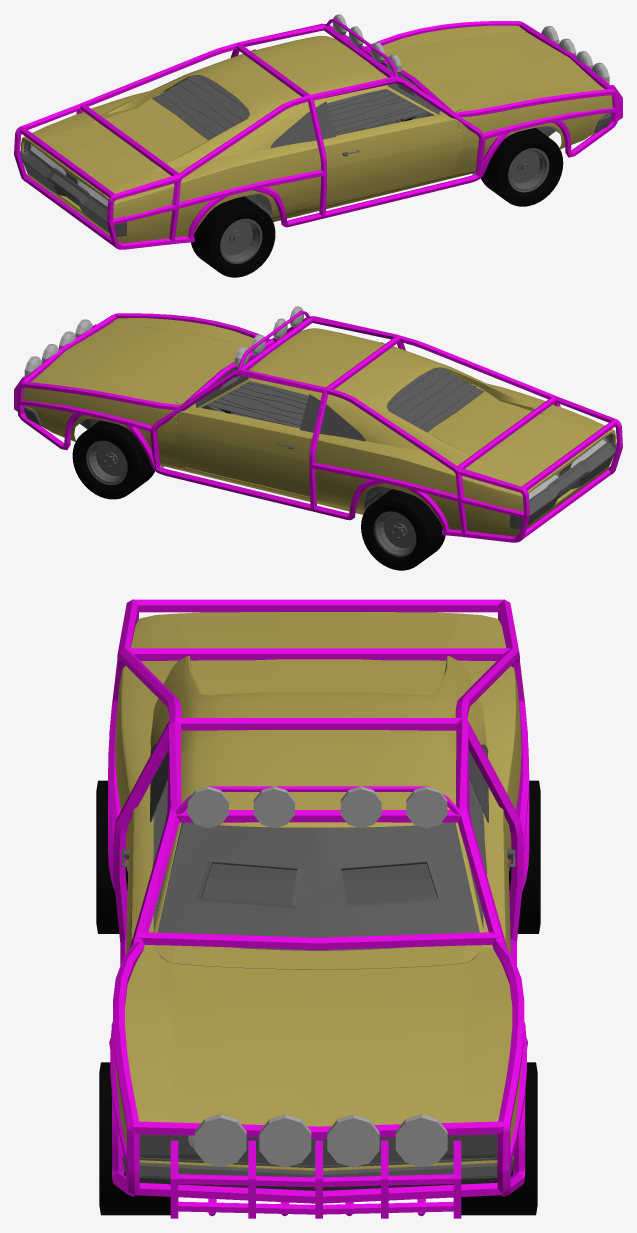
Rendered from Dodge Charger.fbx.
3 views of the same model, one above another, from view 1: azimuth 30°, elevation 25°; view 2: azimuth 150°, elevation 25°; view 3: azimuth 270°, elevation 25° (orthographic). The views are drawn at different scales.
Parts seen in each view (by area): view 1: polySurface131, polySurface72, polySurface106, polySurface75, polySurface68, polySurface70, BackPassengerWheel, FrontPassengerWheel, polySurface113, polySurface74, polySurface88, polySurface77 (+22 smaller); view 2: polySurface131, polySurface72, polySurface113, polySurface75, polySurface31, polySurface70, BackDriverWheel, FrontDriverWheel, polySurface106, polySurface74, polySurface89, polySurface77 (+22 smaller); view 3: polySurface75, polySurface72, polySurface131, polySurface104, polySurface70, polySurface113, polySurface106, polySurface67, polySurface73, polySurface118, polySurface112, polySurface119 (+25 smaller).
Part boxes in pixels (bbox=[...]): polySurface131: bbox=[21, 25, 612, 243]; polySurface72: bbox=[89, 36, 438, 171]; polySurface106: bbox=[106, 76, 617, 249]; polySurface75: bbox=[390, 32, 599, 106]; polySurface68: bbox=[323, 114, 460, 204]; polySurface70: bbox=[31, 94, 208, 195]; BackPassengerWheel: bbox=[191, 196, 275, 277]; FrontPassengerWheel: bbox=[481, 128, 563, 206]; polySurface113: bbox=[14, 21, 524, 181]; polySurface74: bbox=[20, 151, 126, 236]; polySurface88: bbox=[271, 101, 335, 148]; polySurface77: bbox=[24, 141, 107, 212]; polySurface131: bbox=[23, 318, 616, 536]; polySurface72: bbox=[198, 328, 547, 463]; polySurface113: bbox=[17, 369, 529, 542]; polySurface75: bbox=[36, 325, 245, 398]; polySurface31: bbox=[175, 407, 313, 497]; polySurface70: bbox=[427, 386, 605, 488]; BackDriverWheel: bbox=[361, 489, 445, 570]; FrontDriverWheel: bbox=[72, 420, 154, 499]; polySurface106: bbox=[115, 313, 622, 473]; polySurface74: bbox=[509, 444, 616, 529]; polySurface89: bbox=[299, 394, 365, 441]; polySurface77: bbox=[528, 433, 612, 505]; polySurface75: bbox=[173, 963, 463, 1126]; polySurface72: bbox=[150, 656, 486, 932]; polySurface131: bbox=[115, 613, 521, 1170]; polySurface104: bbox=[157, 822, 479, 950]; polySurface70: bbox=[176, 612, 460, 695]; polySurface113: bbox=[455, 599, 529, 1196]; polySurface106: bbox=[108, 599, 181, 1196]; polySurface67: bbox=[144, 779, 492, 1160]; polySurface73: bbox=[154, 945, 482, 969]; polySurface118: bbox=[133, 599, 503, 612]; polySurface112: bbox=[138, 932, 498, 950]; polySurface119: bbox=[127, 648, 510, 660].
Size of the model in its own units: 5.93 by 1.7 by 2.17.
